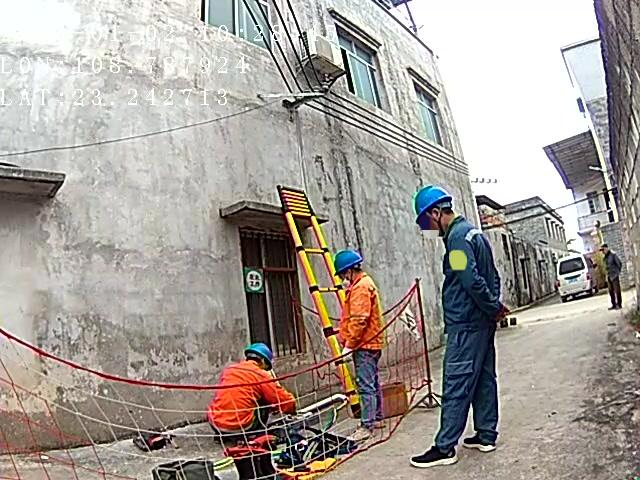halt: (416, 189, 458, 238), (336, 253, 368, 286), (246, 346, 276, 371)
inear: (428, 209, 447, 233)
unhalt: (604, 246, 613, 256)
